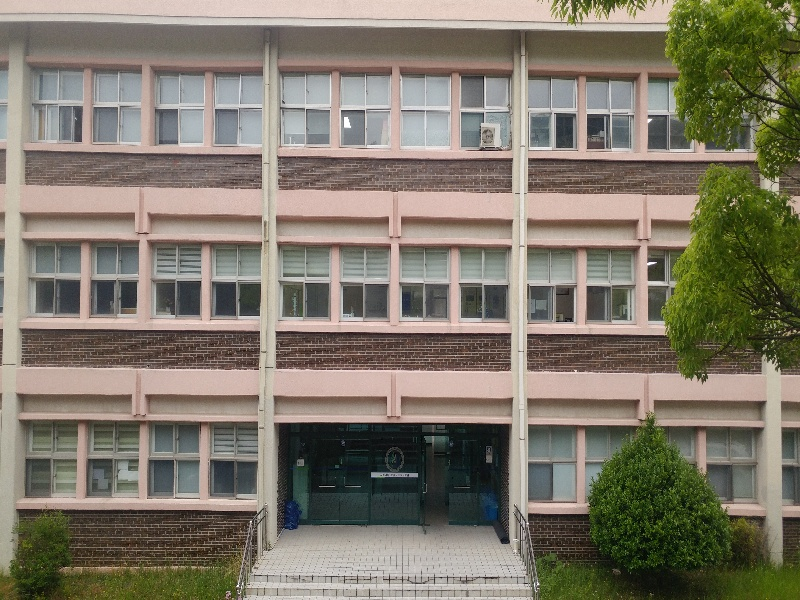College Of Education: (1, 3, 791, 508), (272, 30, 521, 534), (280, 430, 510, 531)
